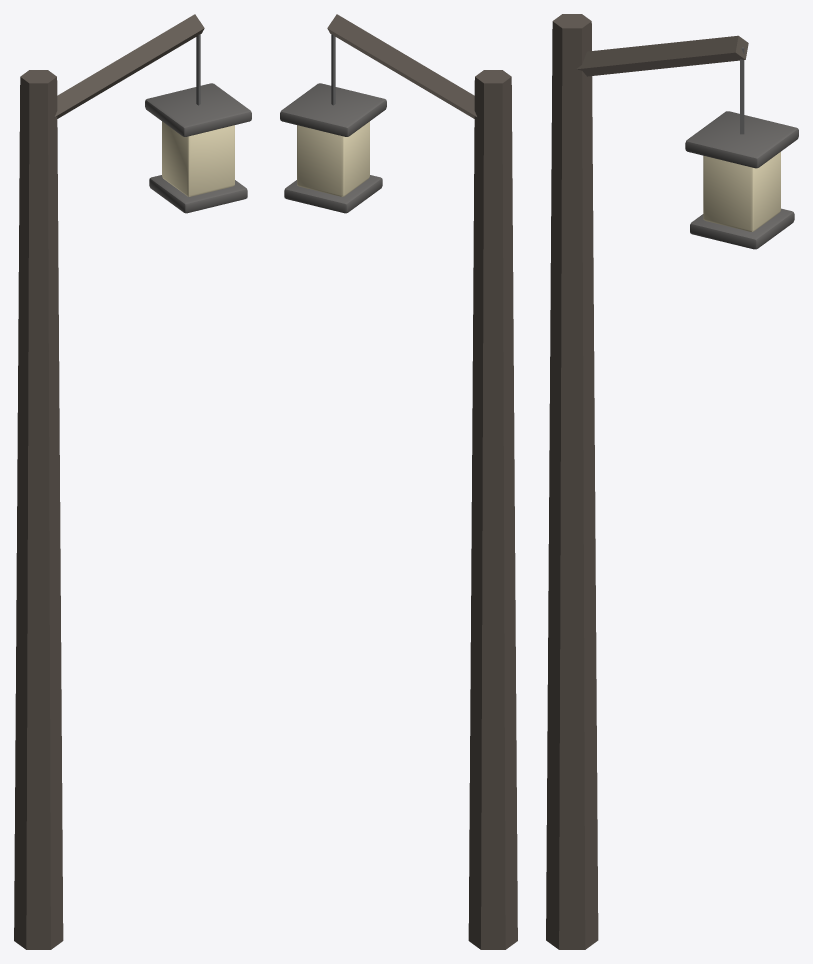
The model's file is lantern_post.gltf.
3 renders of one model, left to right at view 1: azimuth 30°, elevation 25°; view 2: azimuth 150°, elevation 25°; view 3: azimuth 330°, elevation 25°, orthographic. The views are drawn at different scales.
Visible parts, largest first — view 1: Body; view 2: Body; view 3: Body.
Boxes of the visible parts, left/top/right/bottom form: Body: left=14, top=14, right=251, bottom=949; Body: left=280, top=14, right=517, bottom=949; Body: left=546, top=14, right=798, bottom=949.
Bounding box in the file's own units: 0.7993 × 3.19 × 0.26.
